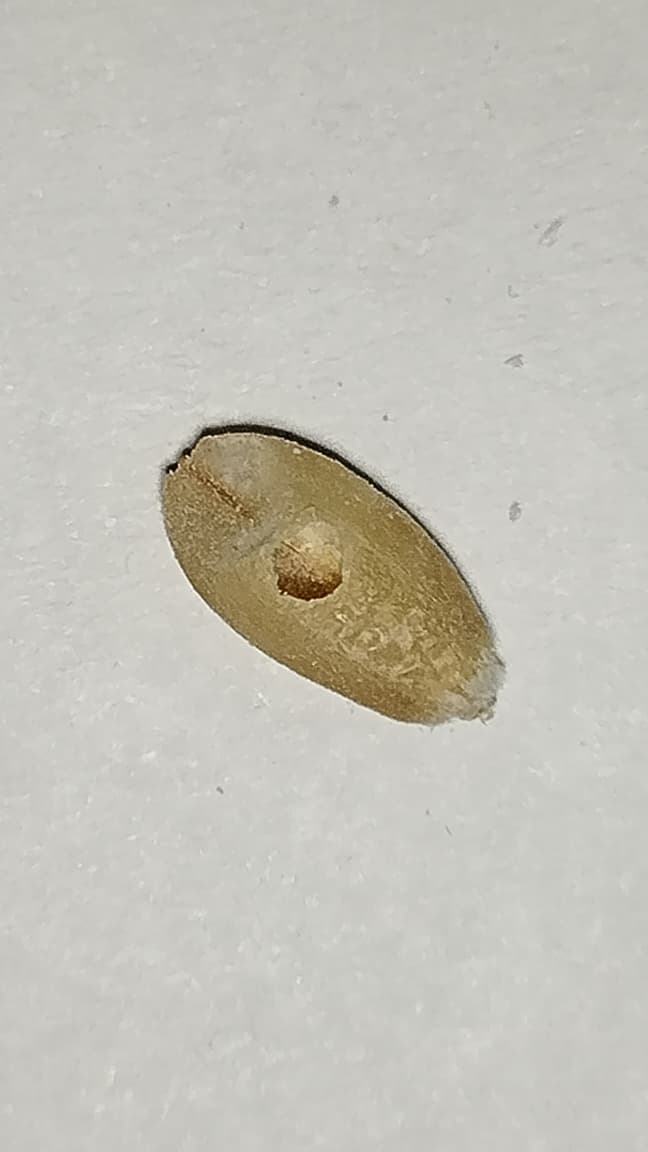damage: (162, 427, 500, 724)
insectdamage: (158, 431, 278, 559), (255, 506, 377, 619)
